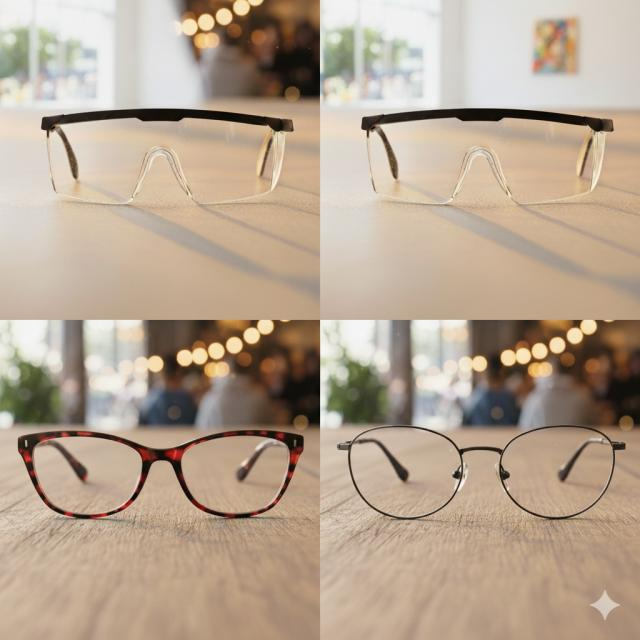oculos-epi: (350, 106, 622, 215), (32, 108, 302, 216)
sem_oculos: (337, 425, 625, 519), (18, 430, 303, 518)
